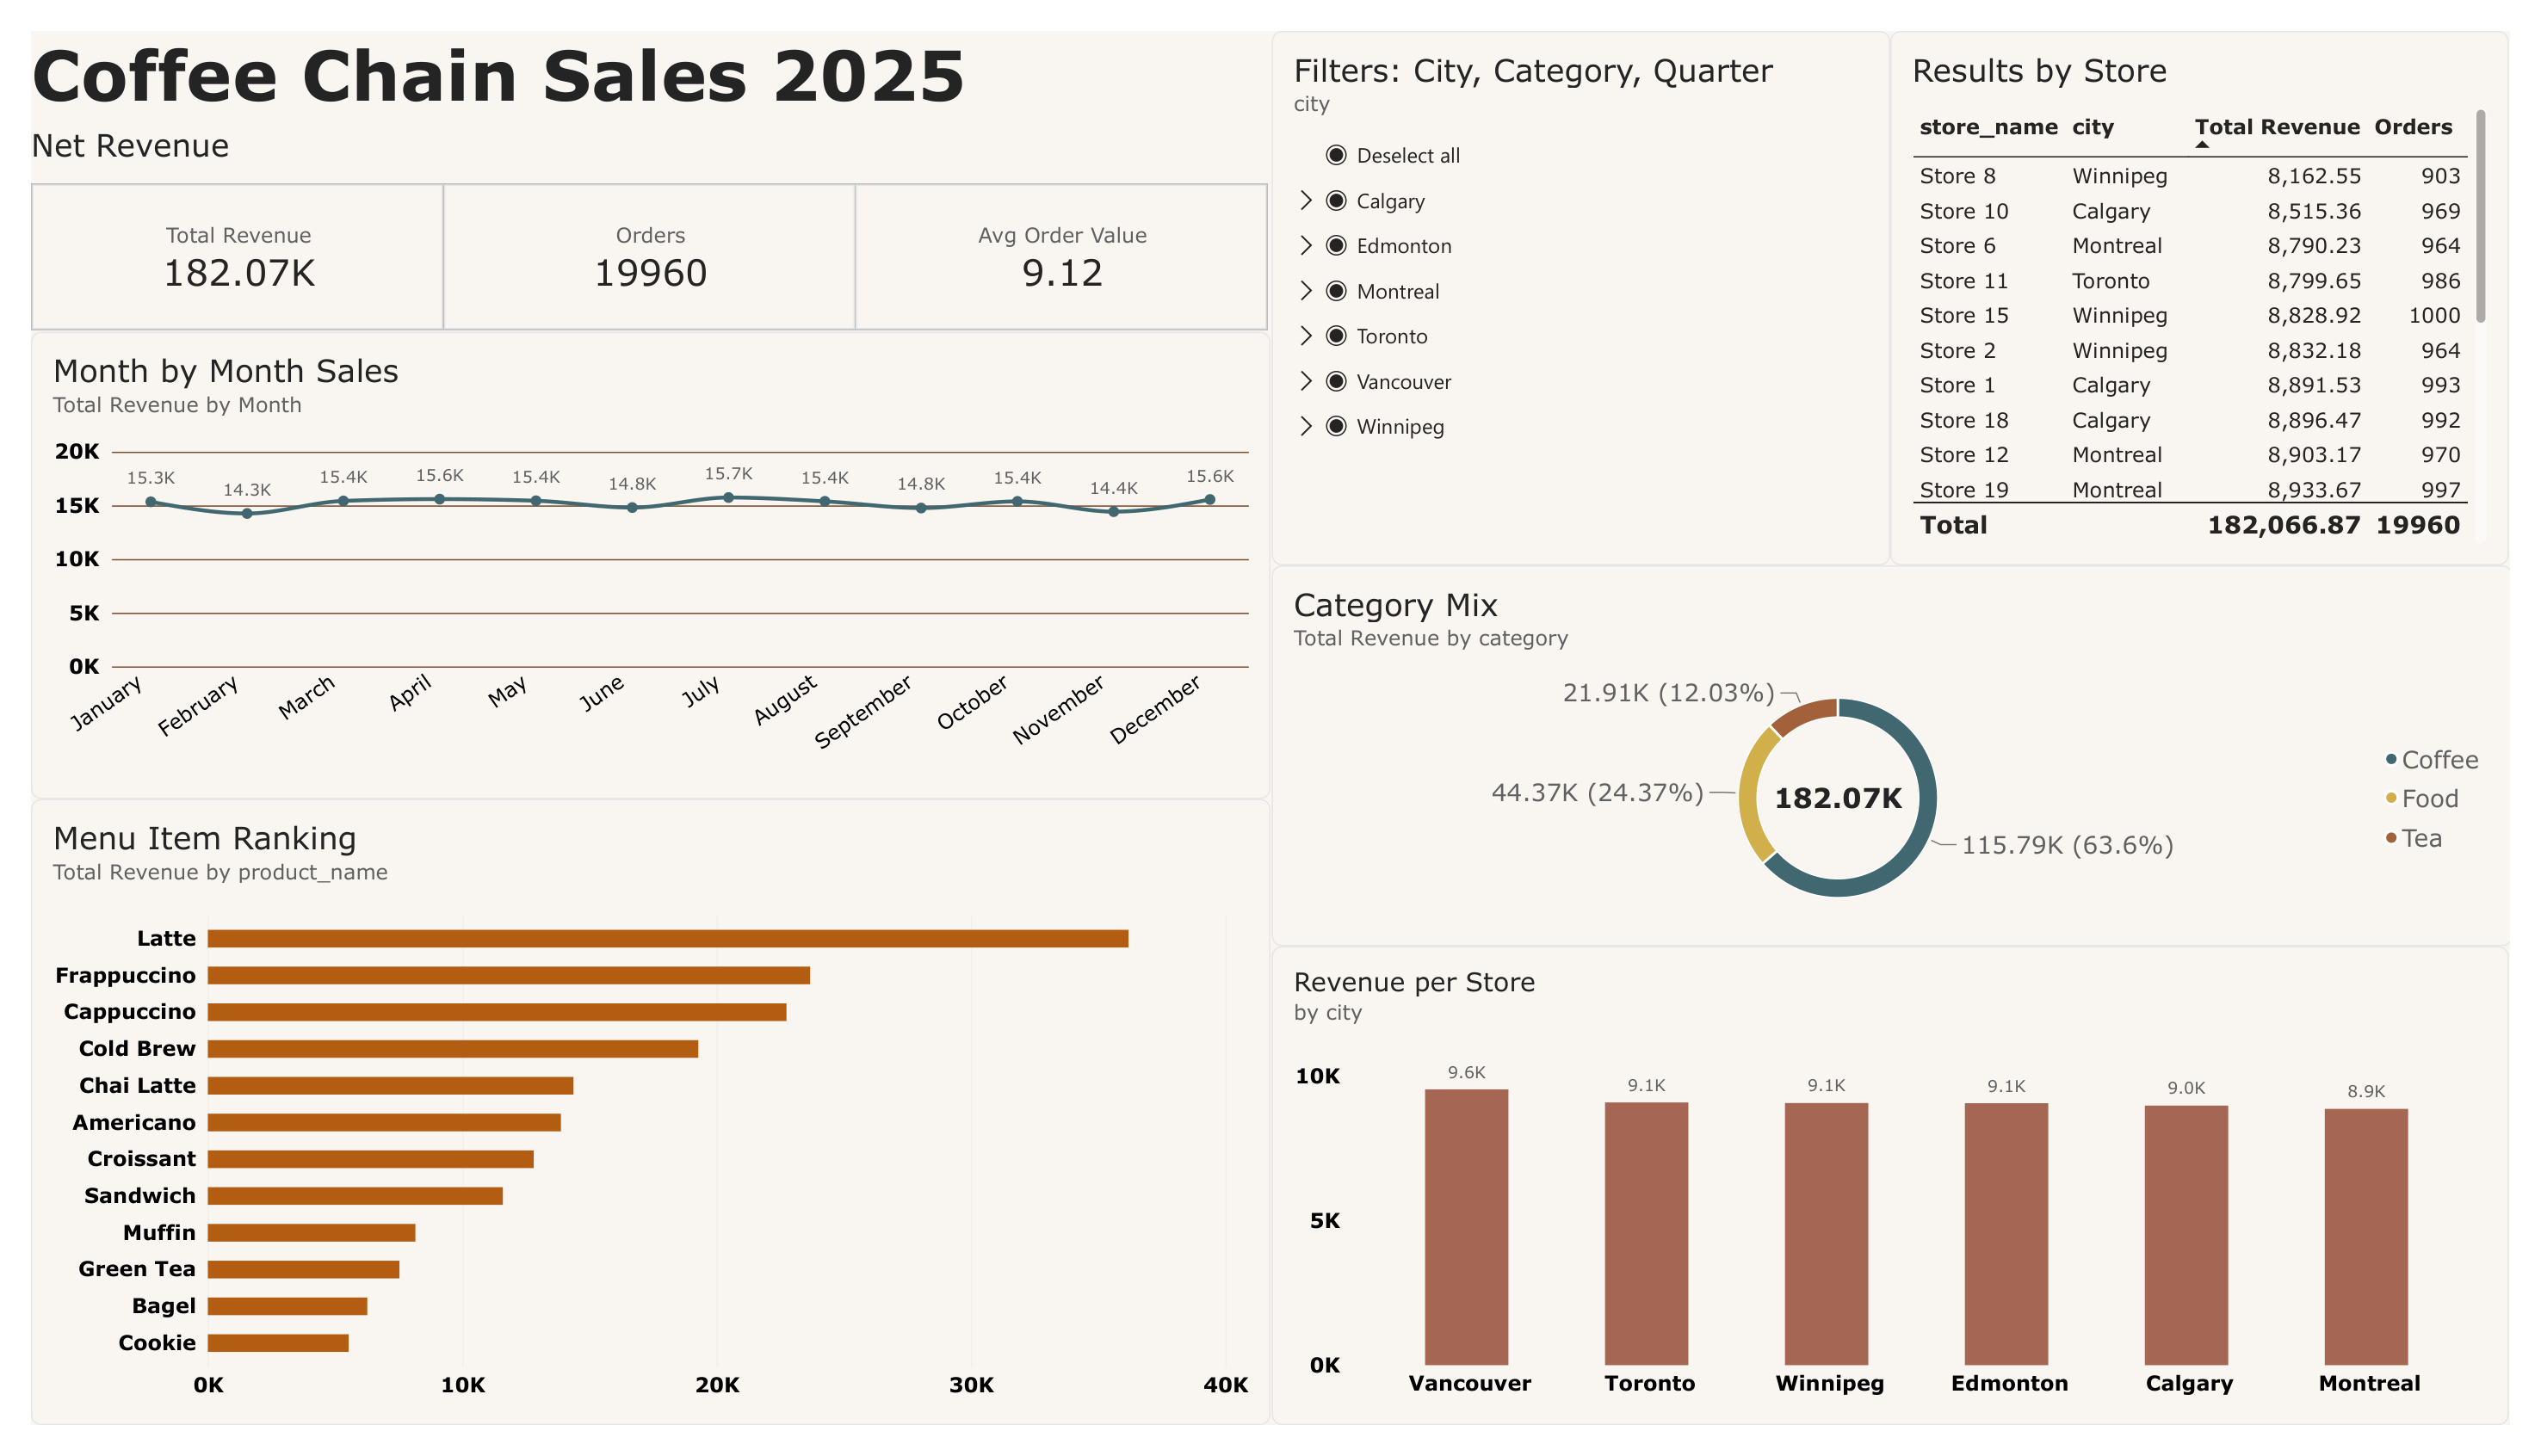

The dashboard page shown, as its layout file describes it:
{"tool":"powerbi","page":{"name":"Page 1","canvas":[1920,1080],"ordinal":0},"visuals":[{"type":"textbox","title":"Coffee Chain Sales 2025","box":[0,0,960,72.5],"z":0},{"type":"cardVisual","title":"Net Revenue","fields":{"Data":["v_sales_enriched.Total Revenue","v_sales_enriched.Orders","v_sales_enriched.Avg Order Value"]},"box":[0,72.5,960,160],"z":1000},{"type":"lineChart","title":"Month by Month Sales","fields":{"Category":["v_sales_enriched.order_date.Variation.Date Hierarchy.Month"],"Y":["v_sales_enriched.Total Revenue"]},"box":[0,232.5,960,362.5],"z":2000},{"type":"clusteredBarChart","title":"Menu Item Ranking","fields":{"Category":["v_sales_enriched.product_name"],"Y":["v_sales_enriched.Total Revenue"]},"box":[0,595,960,485],"z":3000},{"type":"donutChart","title":"Category Mix","fields":{"Category":["v_sales_enriched.category"],"Y":["v_sales_enriched.Total Revenue"]},"box":[961,413.9,961,294.8],"z":4000},{"type":"tableEx","title":"Results by Store","fields":{"Values":["v_sales_enriched.store_name","v_sales_enriched.city","v_sales_enriched.Total Revenue","v_sales_enriched.Orders"]},"box":[1440,0,479.1,413.9],"z":5000},{"type":"listSlicer","title":"Filters: City, Category, Quarter","fields":{"Values":["v_sales_enriched.city","v_sales_enriched.category","v_sales_enriched.order_date.Variation.Date Hierarchy.Quarter"]},"box":[961,0,479.1,413.9],"z":6000},{"type":"clusteredColumnChart","fields":{"Category":["v_sales_enriched.city"],"Y":["v_sales_enriched.Revenue per Store"]},"box":[961,708.7,958.1,371.3],"z":7000}]}

Visuals, with their boxes in screenshot pixels (x1, y1, x2, y2), scaled from the page's 1920x1080 canvas onto the 2541x1456 screenshot:
"Coffee Chain Sales 2025" textbox: x1=0, y1=0, x2=1270, y2=98
"Net Revenue" cardVisual: x1=0, y1=98, x2=1270, y2=313
"Month by Month Sales" lineChart: x1=0, y1=313, x2=1270, y2=802
"Menu Item Ranking" clusteredBarChart: x1=0, y1=802, x2=1270, y2=1455
"Category Mix" donutChart: x1=1272, y1=558, x2=2540, y2=955
"Results by Store" tableEx: x1=1906, y1=0, x2=2540, y2=558
"Filters: City, Category, Quarter" listSlicer: x1=1272, y1=0, x2=1906, y2=558
clusteredColumnChart - v_sales_enriched.city x v_sales_enriched.Revenue per Store: x1=1272, y1=955, x2=2540, y2=1455
